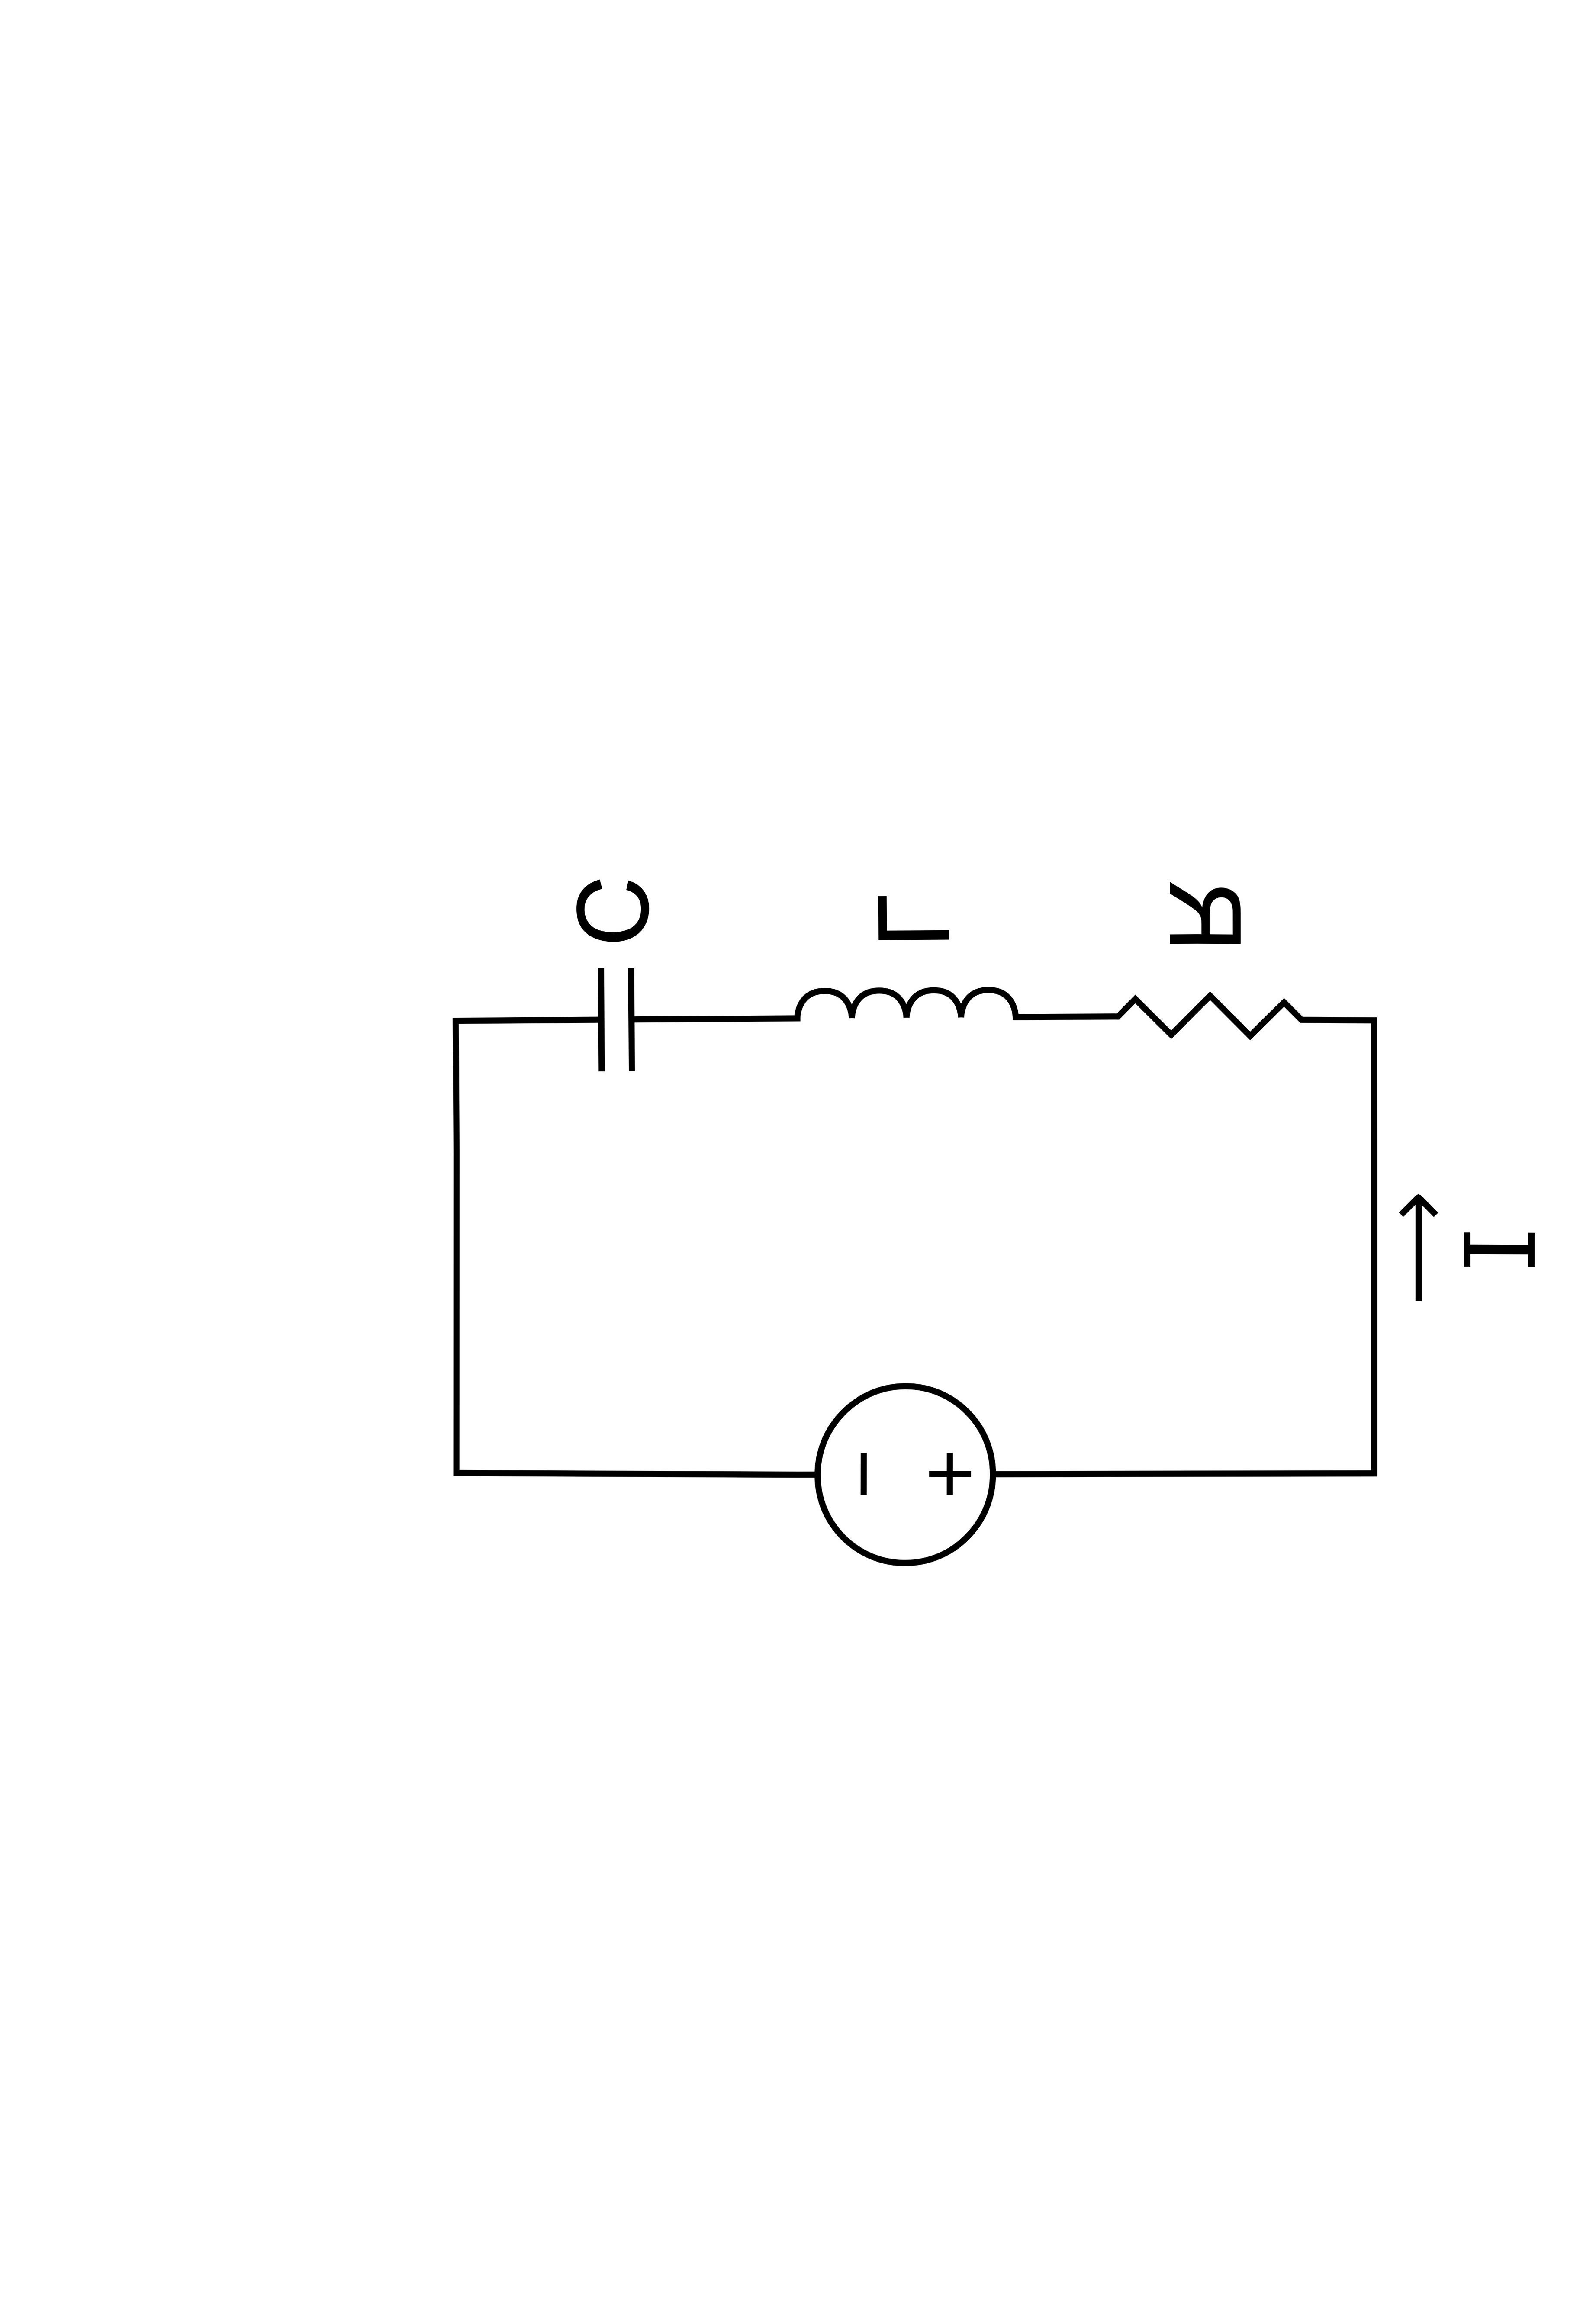Battery: (723, 1347, 1046, 1615)
